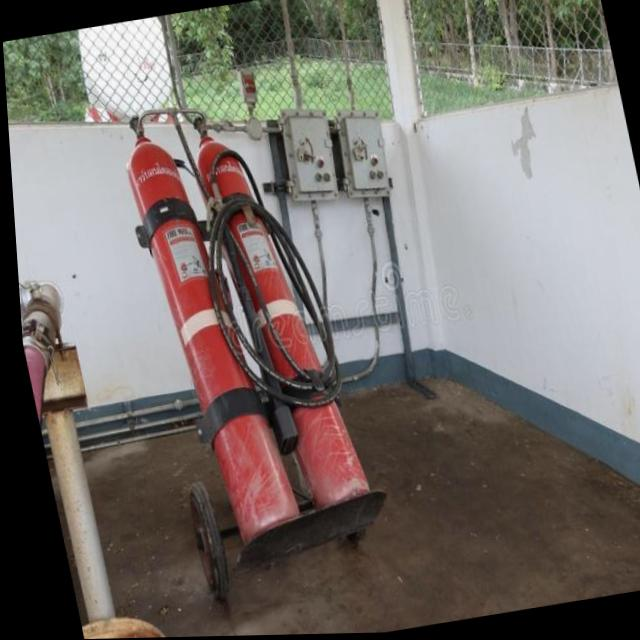FireExtinguisher: (106, 94, 309, 579), (180, 93, 376, 552)
